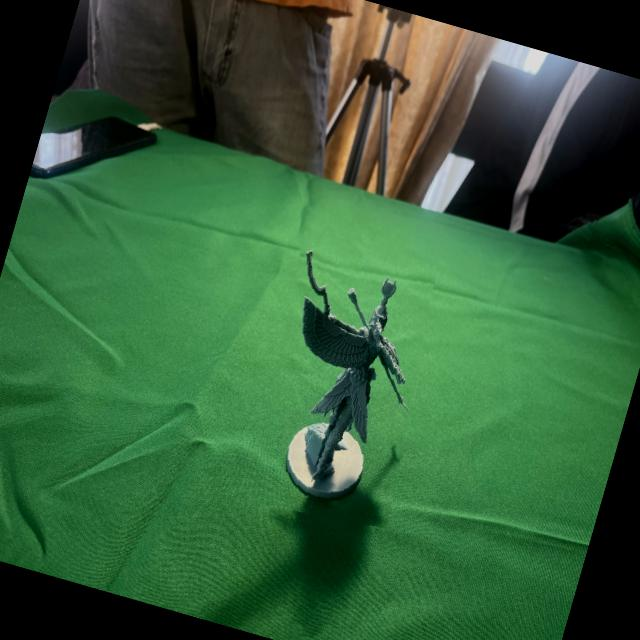isis: (235, 222, 457, 536)
